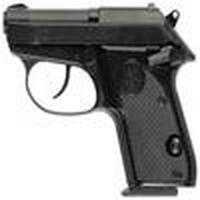gun: (5, 4, 200, 186)
